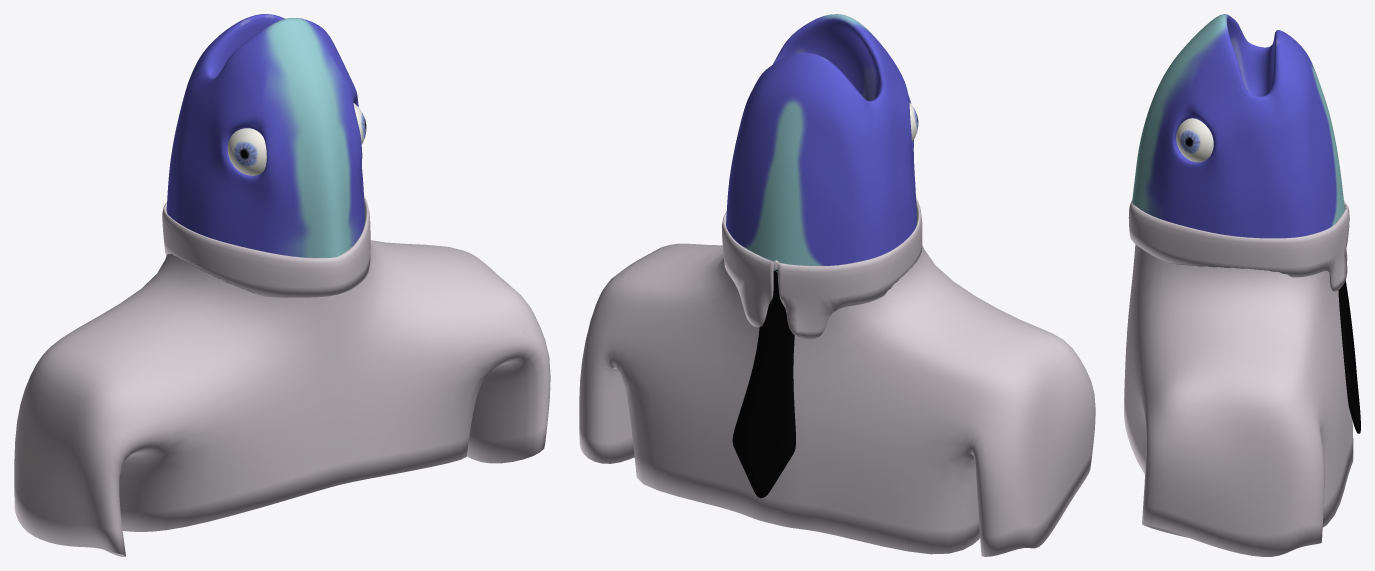
3 views of the same model, side by side, from view 1: azimuth 30°, elevation 25°; view 2: azimuth 150°, elevation 25°; view 3: azimuth 270°, elevation 25° (orthographic). The views are drawn at different scales.
Visible parts, largest first — view 1: Plane, Cube, Icosphere; view 2: Plane, Cube, Plane.001; view 3: Plane, Cube, Plane.001, Icosphere.
Part boxes in pixels (<box>): Plane: <box>14,195,550,556</box>; Cube: <box>166,14,364,257</box>; Icosphere: <box>227,103,366,175</box>; Plane: <box>579,197,1095,556</box>; Cube: <box>726,14,916,272</box>; Plane.001: <box>732,269,795,498</box>; Plane: <box>1124,200,1353,556</box>; Cube: <box>1132,14,1344,238</box>; Plane.001: <box>1338,280,1360,433</box>; Icosphere: <box>1176,118,1213,162</box>.
Bounding box in the file's own units: 2.48 × 2.47 × 1.2.
Materials: 1 (1 with a texture image).
